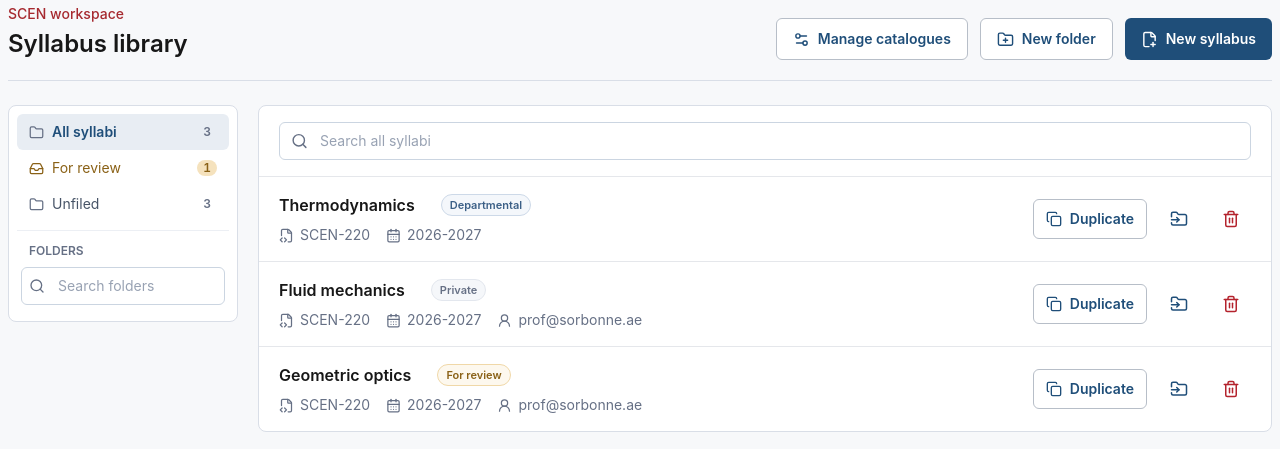
Test: What a syllabus is doing, in the library › gathers the submitted ones where a coordinator already looks for syllabi
Click the button "For review 1" at (123, 168), box [17,150,229,186]
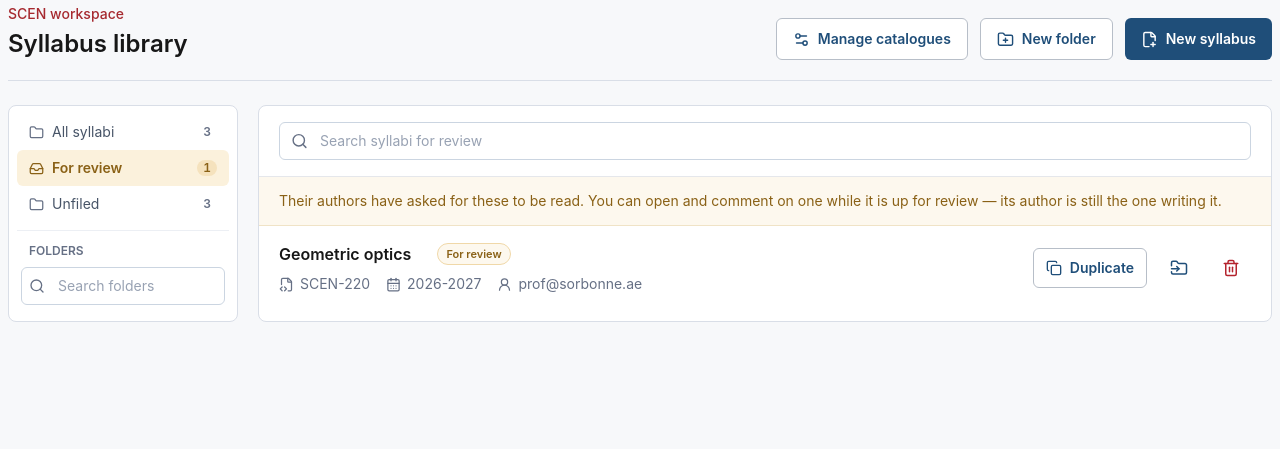
Expected: the button "Fluid mechanics" is gone
Expected: the button "Thermodynamics" is gone
Expected: the text "asked for these to be read" is shown, [279,192,1222,209]
